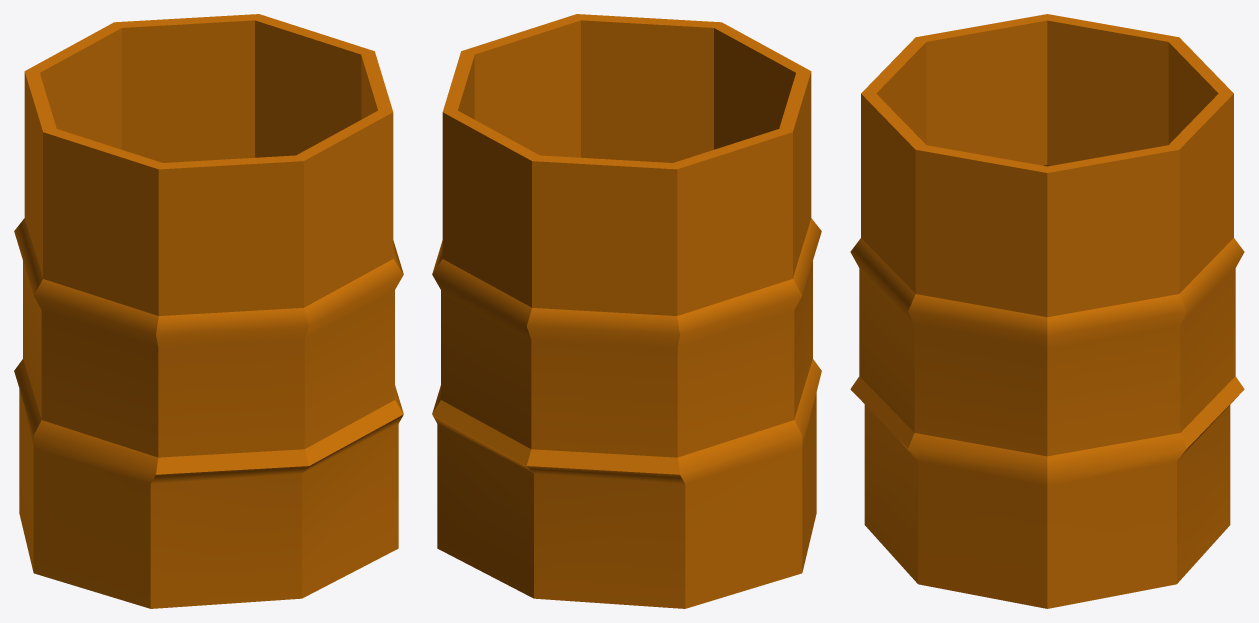
File: Bucket_red.fbx
3 renders of one model, left to right at view 1: azimuth 30°, elevation 25°; view 2: azimuth 150°, elevation 25°; view 3: azimuth 270°, elevation 25°, orthographic.
Parts seen in each view (by area): view 1: Bucket_red; view 2: Bucket_red; view 3: Bucket_red.
Boxes of the visible parts, x1,y1,x2,y2 form: Bucket_red: [14, 14, 403, 608]; Bucket_red: [432, 14, 821, 608]; Bucket_red: [850, 14, 1244, 608].
Bounding box in the file's own units: 1.07 × 1.28 × 1.06.
